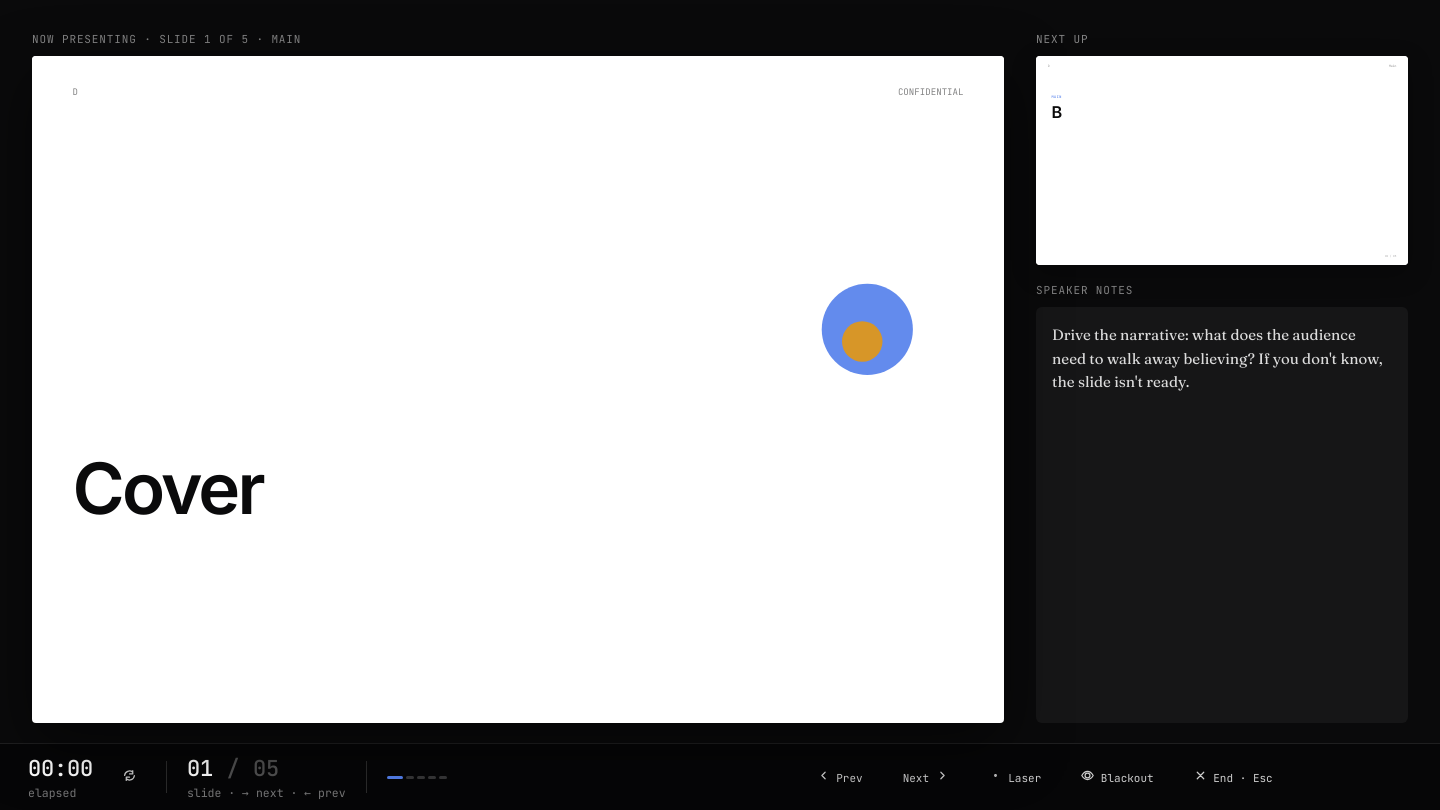
Scenario: PresenterView › stops laser tracking while blacked out (no capture layer behind the black)
Click the button "Laser".
click(1015, 777)  # box [979,765,1051,789]
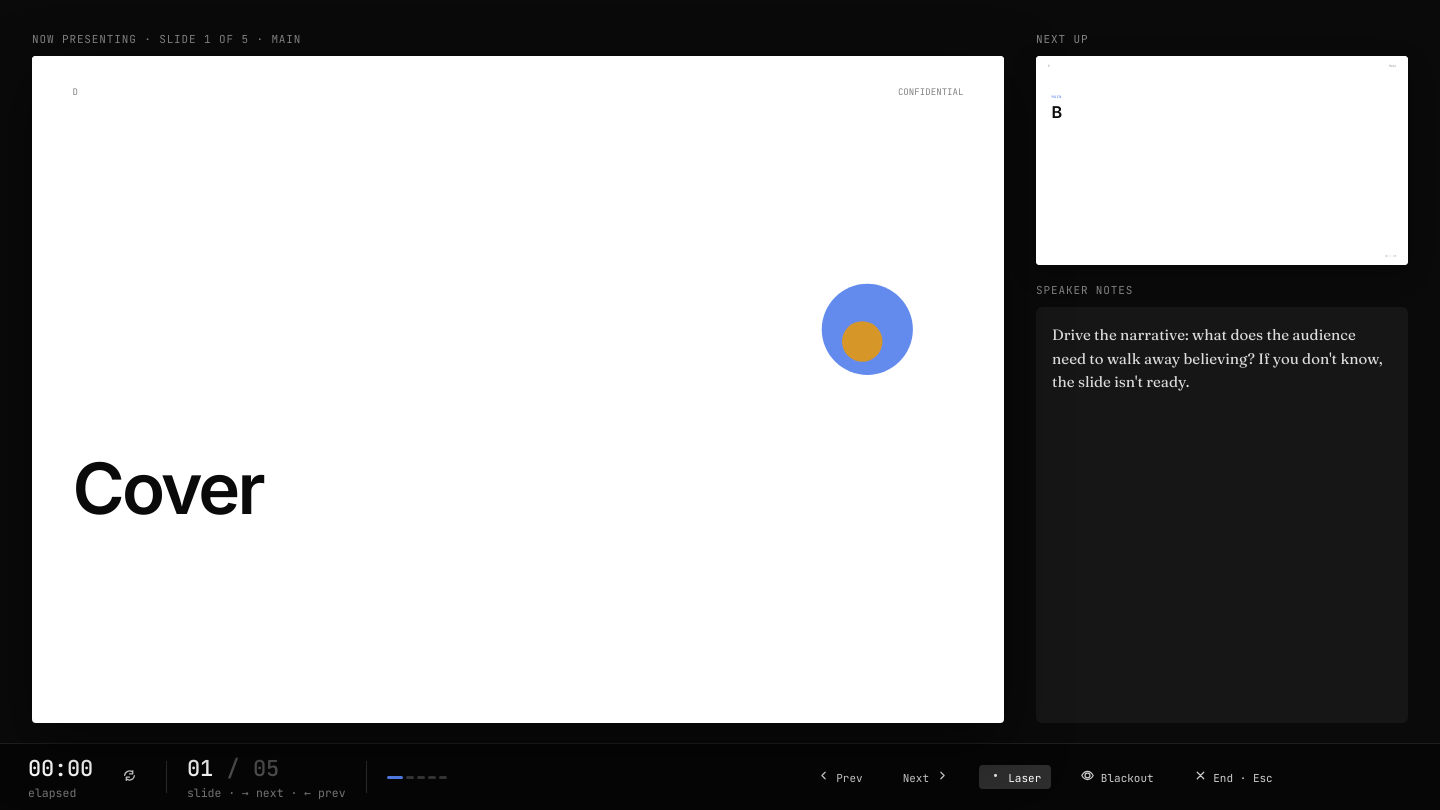
Expected: the element with class "laser-layer" is shown, [32,56,1004,723]
Press b
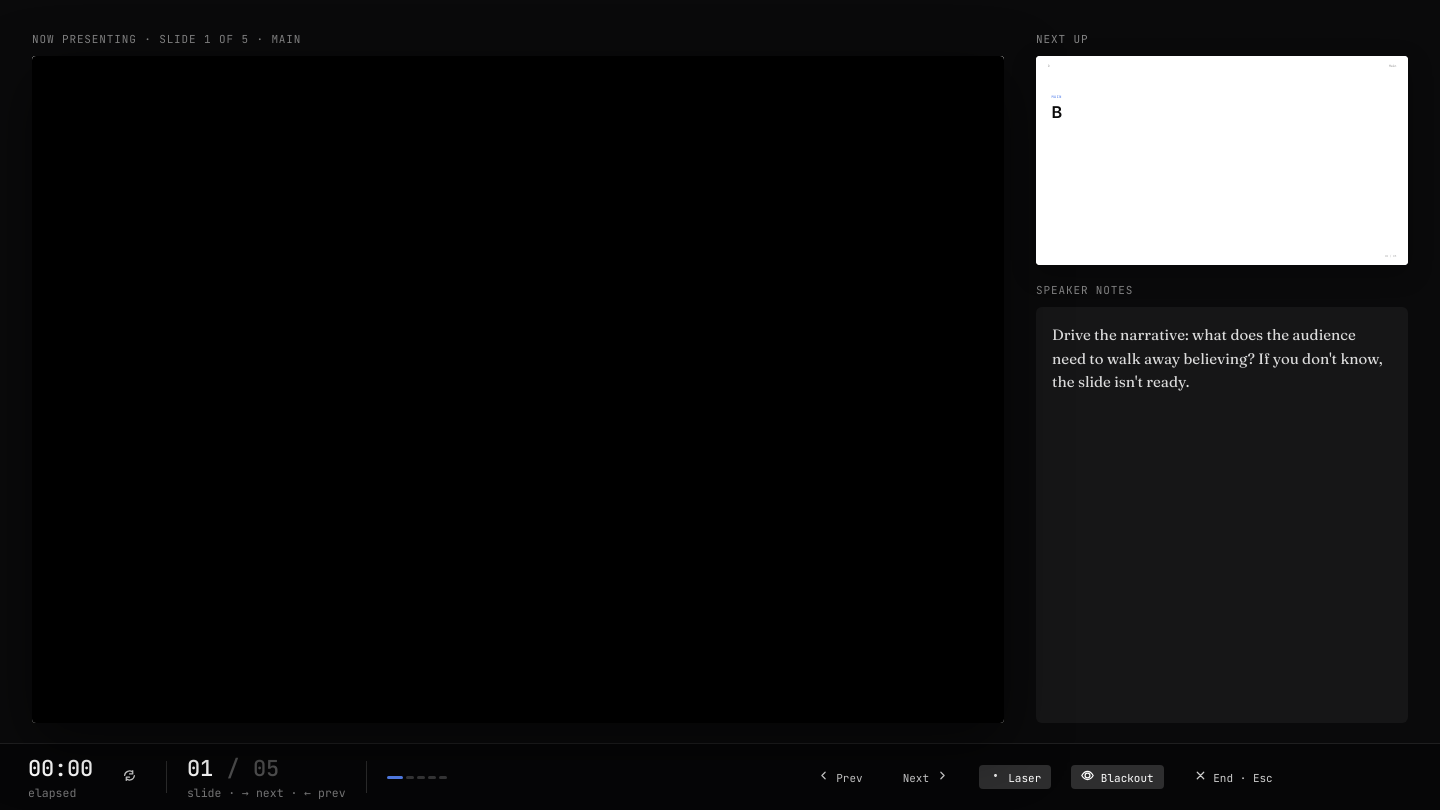
Result: the element with class "laser-layer" is gone
